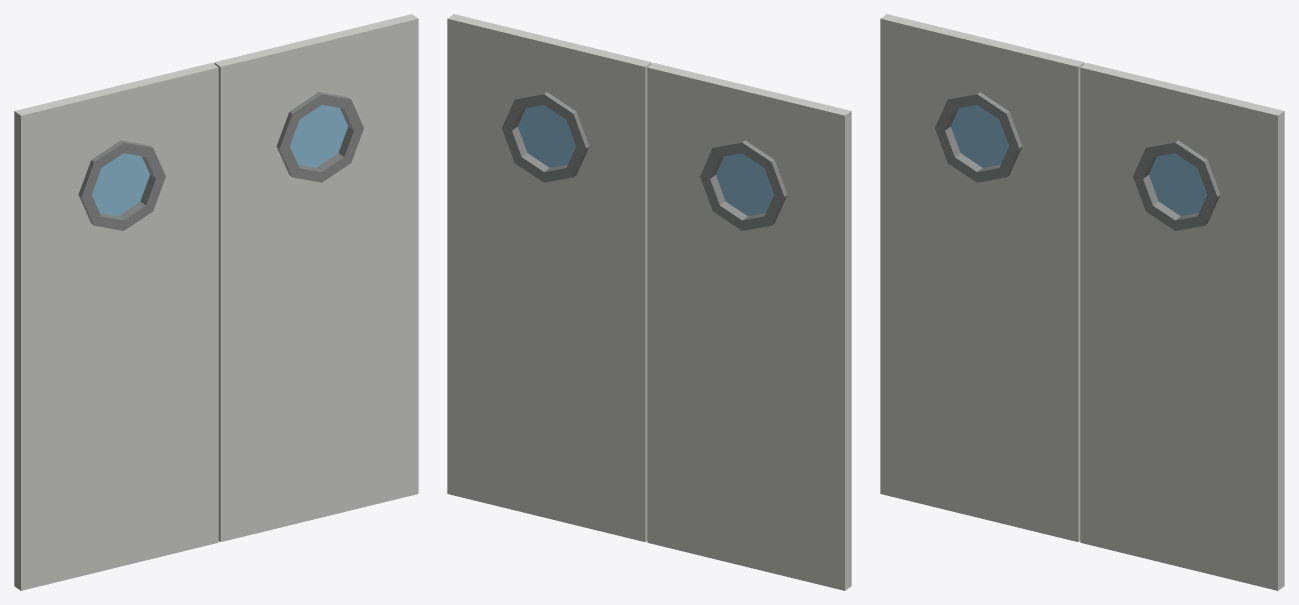
File: puertas.FBX
The picture shows the model from 3 angles, left to right: view 1: azimuth 30°, elevation 25°; view 2: azimuth 150°, elevation 25°; view 3: azimuth 330°, elevation 25°; orthographic projection.
Visible parts, largest first — view 1: Box005, Box004; view 2: Box005, Box004; view 3: Box004, Box005.
Part boxes in pixels (x1,y1,x2,y2): Box005: (14,63,218,590); Box004: (214,14,418,541); Box005: (647,63,851,590); Box004: (447,14,651,541); Box004: (1080,63,1284,590); Box005: (880,14,1084,541).
Size of the model in its own units: 41.27 by 47.14 by 2.28.
